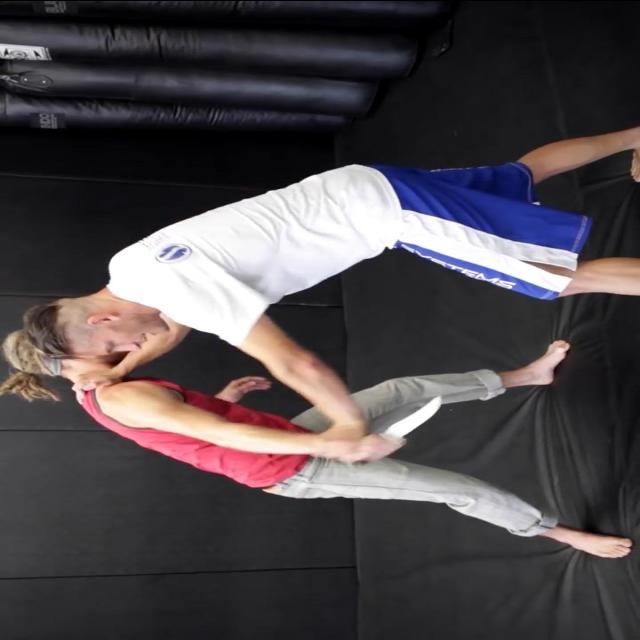Sharp-Object: (341, 390, 448, 470)
